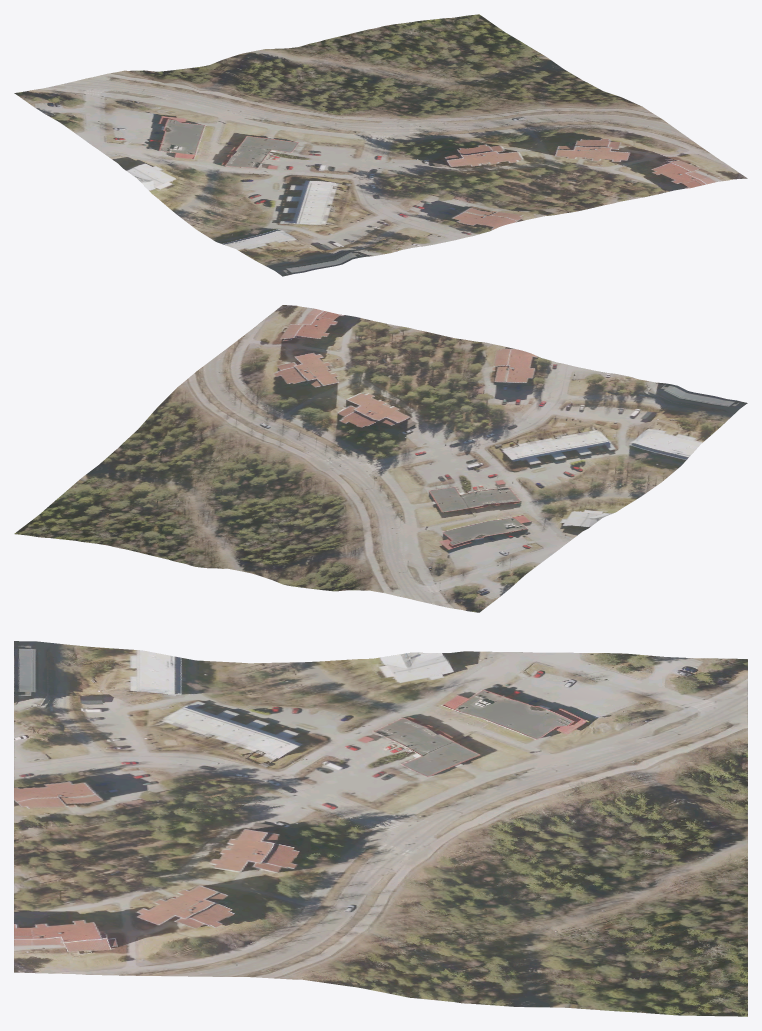
Rendered from CM_Terrain_24491278_6817336.fbx.
3 views of the same model, one above another, from view 1: azimuth 30°, elevation 25°; view 2: azimuth 150°, elevation 25°; view 3: azimuth 270°, elevation 25° (orthographic). The views are drawn at different scales.
Parts seen in each view (by area): view 1: CM_Terrain_24491278_6817336_LOD0; view 2: CM_Terrain_24491278_6817336_LOD0; view 3: CM_Terrain_24491278_6817336_LOD0.
Part boxes in pixels (x1,y1,x2,y2): CM_Terrain_24491278_6817336_LOD0: [14, 14, 747, 276]; CM_Terrain_24491278_6817336_LOD0: [14, 305, 747, 612]; CM_Terrain_24491278_6817336_LOD0: [14, 641, 747, 1016].
Size of what is drawn, in the model's own units: 205 by 20.22 by 205.
